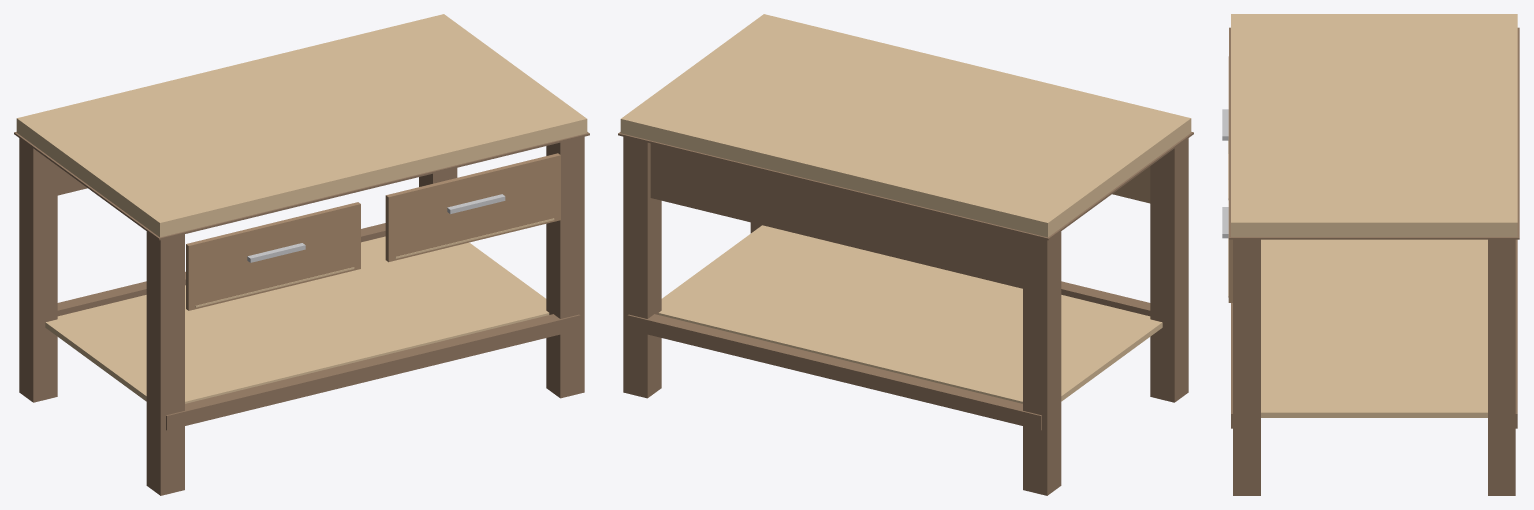
The model's file is workbench.glb.
The picture shows the model from 3 angles, left to right: view 1: azimuth 30°, elevation 25°; view 2: azimuth 150°, elevation 25°; view 3: azimuth 270°, elevation 25°; orthographic projection.
Parts seen in each view (by area): view 1: body; view 2: body; view 3: body.
Part boxes in pixels (left/top/right/bottom): body: left=14, top=14, right=589, bottom=495; body: left=618, top=14, right=1193, bottom=495; body: left=1222, top=14, right=1519, bottom=495.
Bounding box in the file's own units: 1.25 × 0.76 × 0.747.
